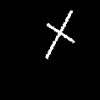single_crochet: (46, 11, 73, 58)
